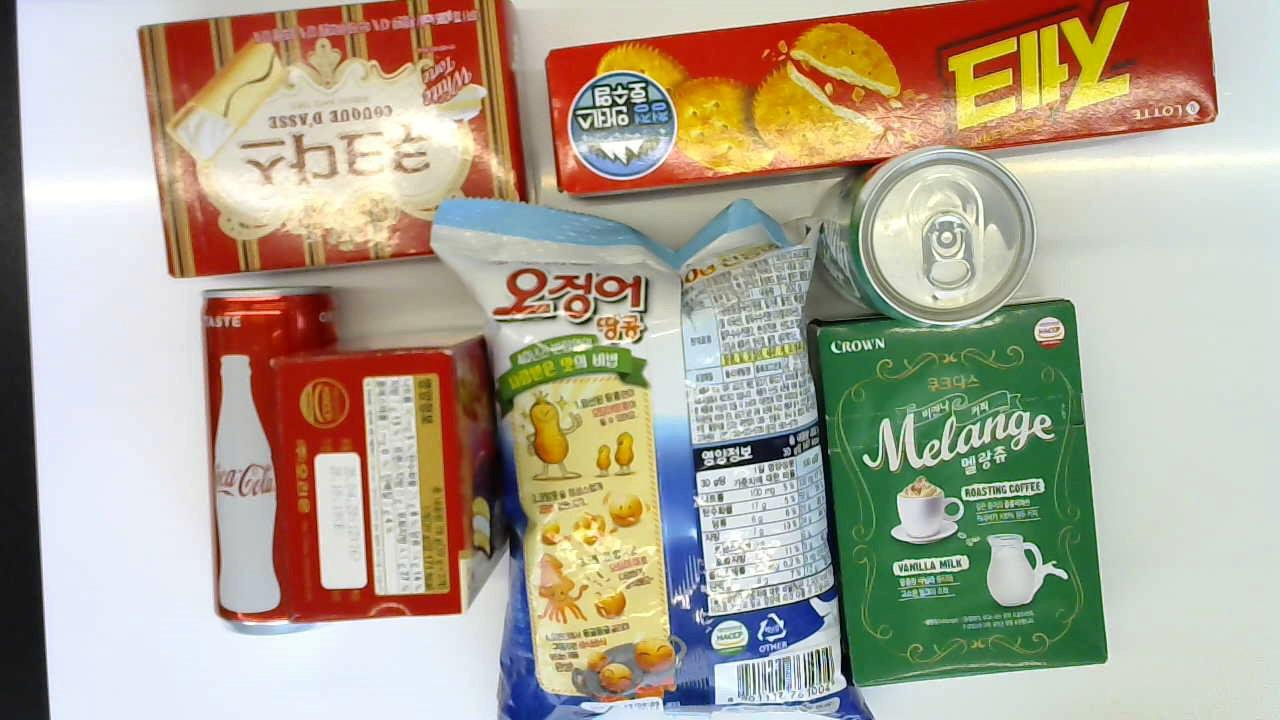chocopie: (271, 333, 509, 614)
coke: (197, 291, 359, 634), (813, 147, 1036, 322)
couque_coffee: (806, 301, 1109, 684)
couque_white: (136, 0, 533, 280)
squid_peanut: (488, 209, 844, 718)
zec: (550, 0, 1221, 197)
